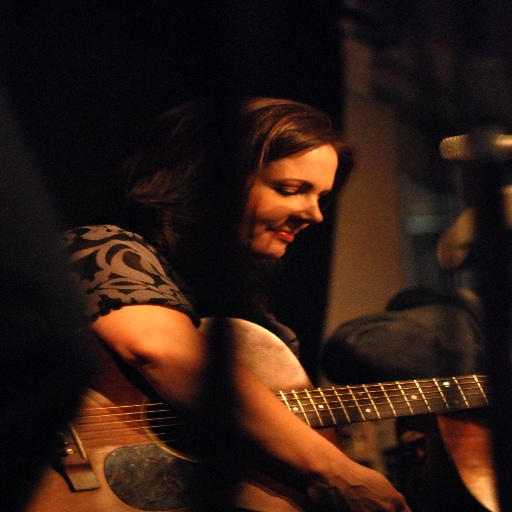hand: (319, 470, 409, 511)
